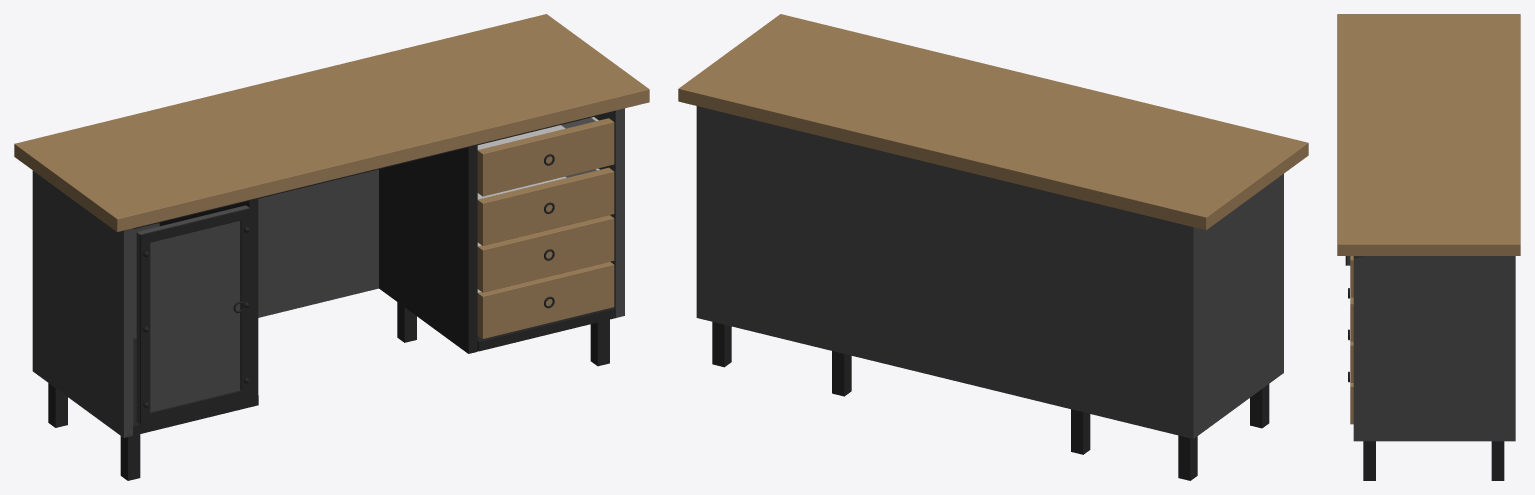
Rendered from Desk.fbx.
3 renders of one model, left to right at view 1: azimuth 30°, elevation 25°; view 2: azimuth 150°, elevation 25°; view 3: azimuth 270°, elevation 25°, orthographic. The views are drawn at different scales.
Parts seen in each view (by area): view 1: Back; view 2: Back; view 3: Back.
Boxes of the visible parts, <box> form: Back: <box>14,14,649,480</box>; Back: <box>678,14,1308,480</box>; Back: <box>1337,14,1520,480</box>.
Size of the model in its own units: 170 by 85 by 57.
